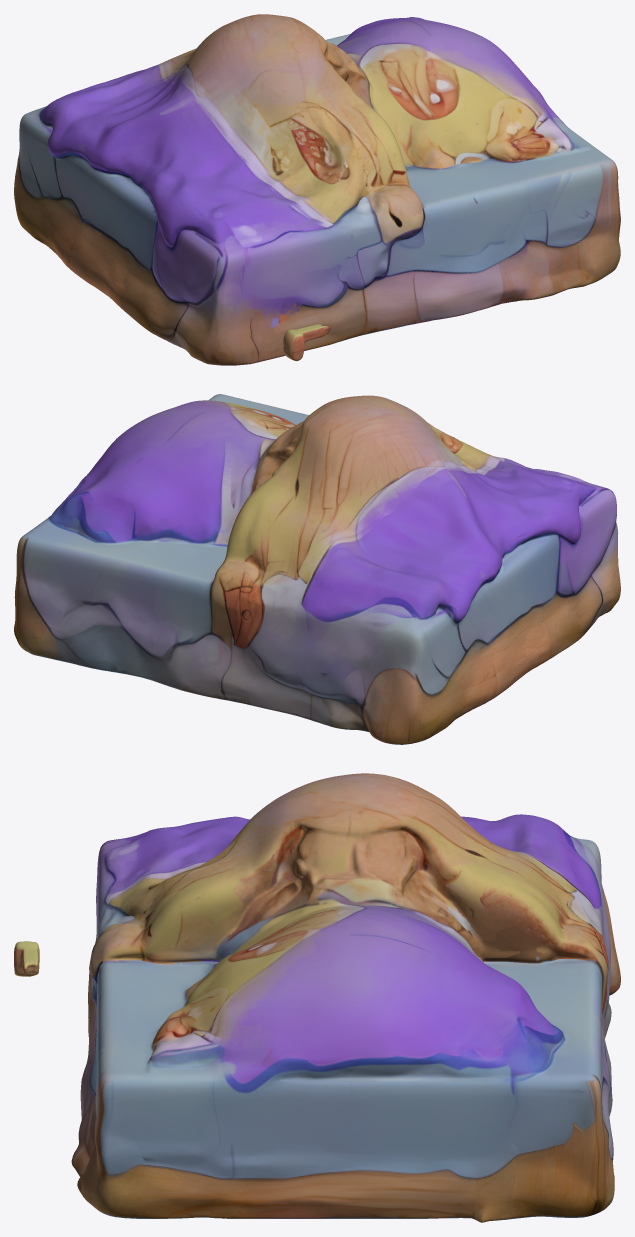
File: bed-failed.glb
The picture shows the model from 3 angles, top to bottom: view 1: azimuth 30°, elevation 25°; view 2: azimuth 150°, elevation 25°; view 3: azimuth 270°, elevation 25°; orthographic projection. The views are drawn at different scales.
Parts seen in each view (by area): view 1: textured; view 2: textured; view 3: textured.
Part boxes in pixels (x1,y1,x2,y2): textured: [14, 14, 620, 365]; textured: [14, 394, 620, 744]; textured: [14, 773, 620, 1222].
Bounding box in the file's own units: 1.84 × 0.9285 × 1.8.
1 material, 1 textured.
